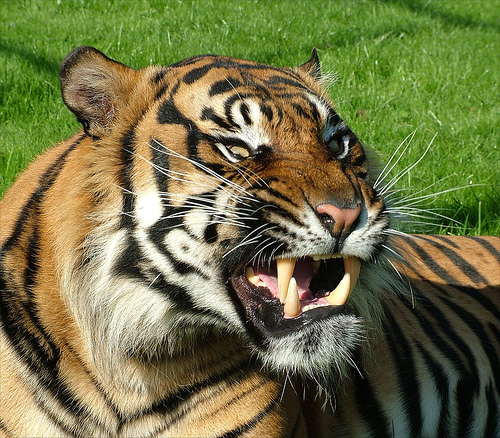Tigre: (27, 27, 425, 409)
